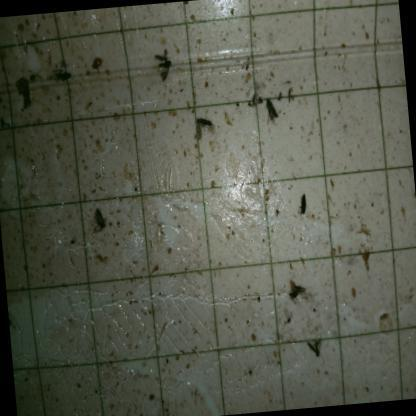prays_oleae: (149, 44, 176, 87), (284, 273, 308, 308), (302, 328, 326, 362), (90, 204, 112, 240), (194, 112, 218, 144), (262, 90, 280, 130), (51, 60, 75, 88), (292, 190, 312, 223)
